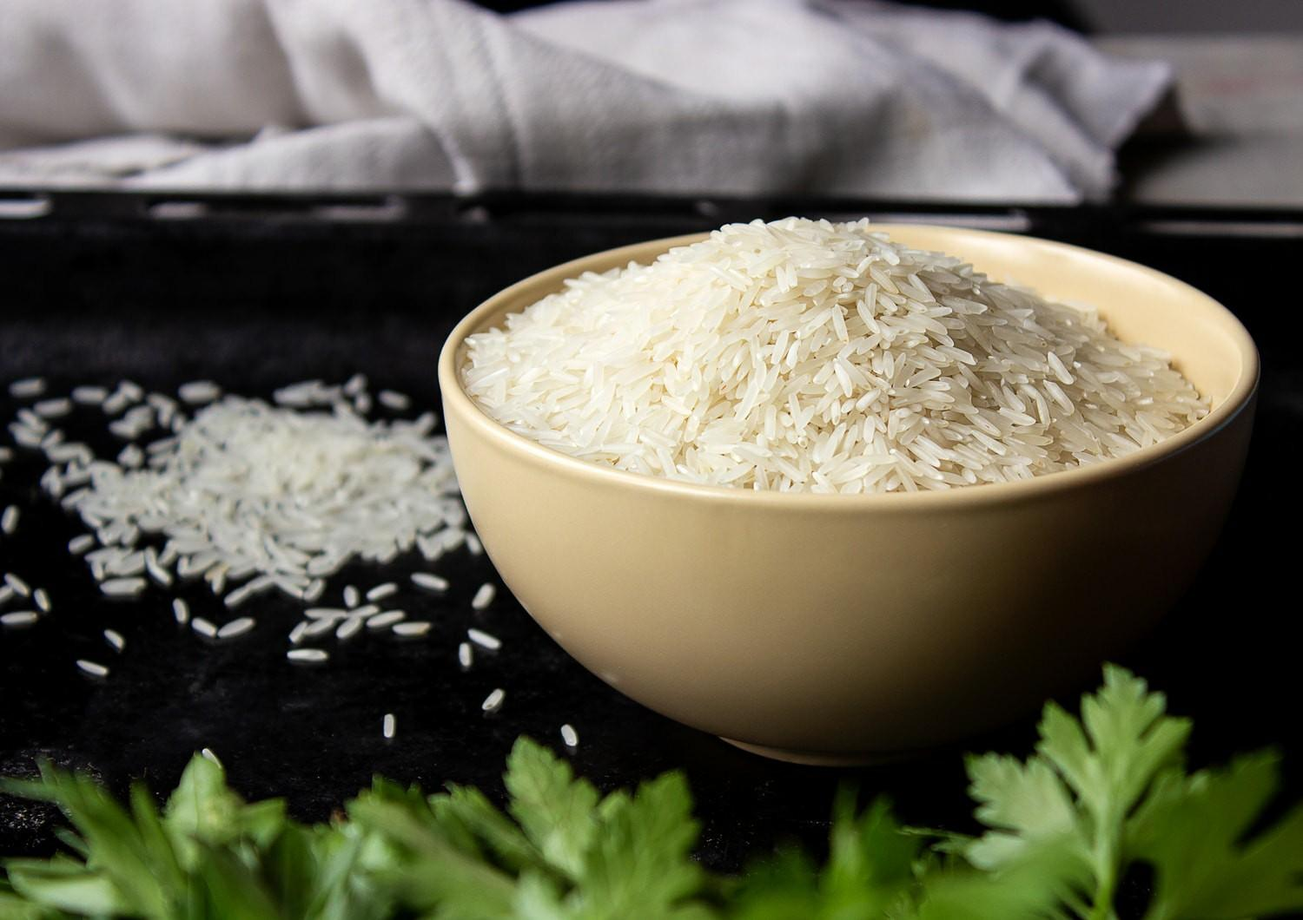WhiteRice: (461, 202, 1209, 495), (73, 398, 452, 606)
